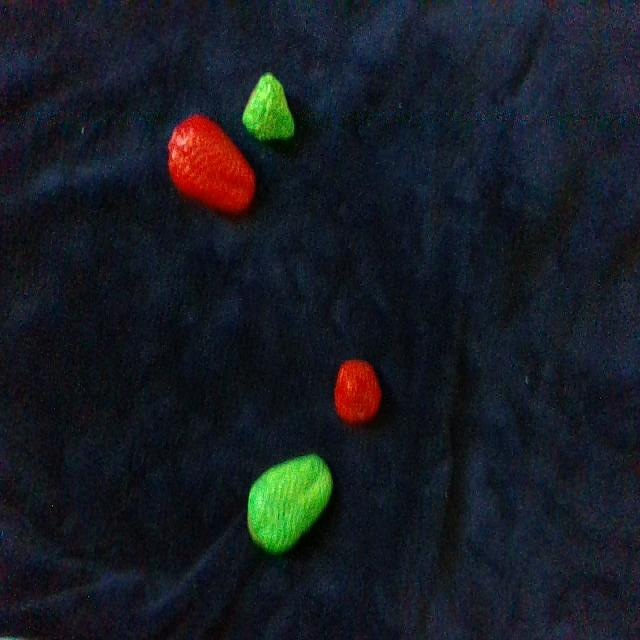chica_roja: (334, 360, 381, 425)
grande_roja: (169, 115, 255, 213)
verde: (247, 455, 332, 553), (243, 73, 294, 140)
